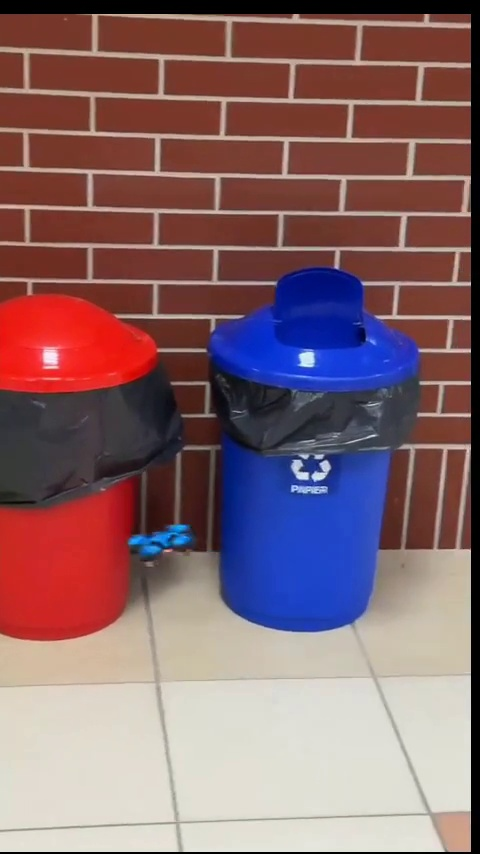drone: (127, 522, 199, 571)
